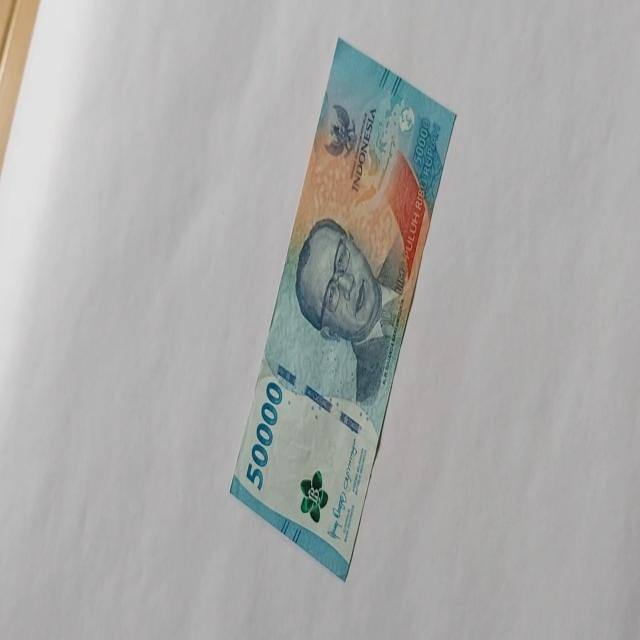lima puluh ribu rupiah: (229, 36, 457, 582), (294, 214, 406, 404)
